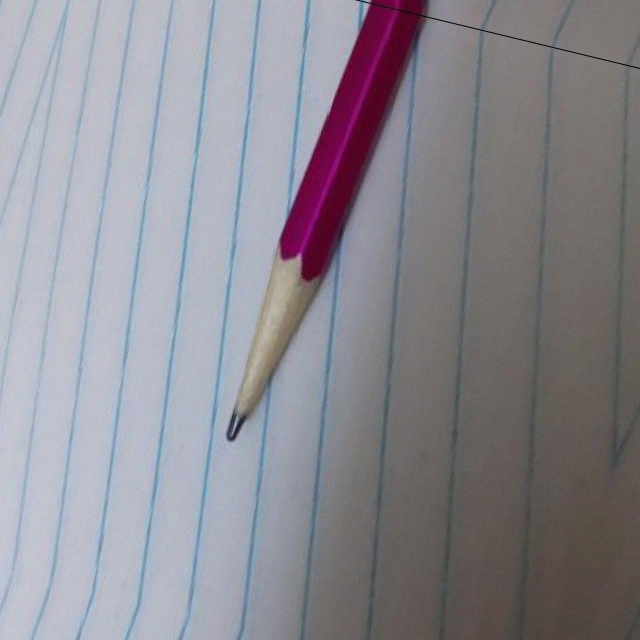pencil: (199, 236, 327, 461)
